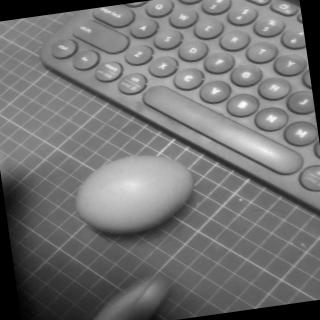Telur: (69, 146, 205, 243)
